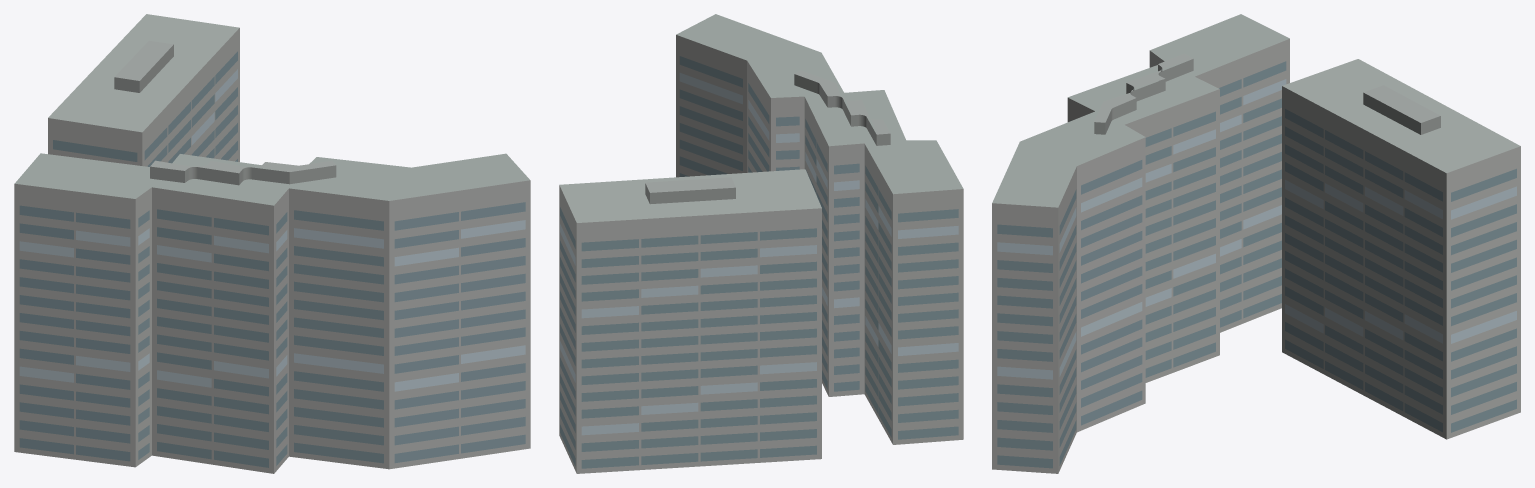
File: apt-a15275101.glb
3 views of the same model, side by side, from view 1: azimuth 30°, elevation 25°; view 2: azimuth 150°, elevation 25°; view 3: azimuth 270°, elevation 25° (orthographic). The views are drawn at different scales.
Parts seen in each view (by area): view 1: apt-a15275101; view 2: apt-a15275101; view 3: apt-a15275101.
Boxes of the visible parts, x1=… form: apt-a15275101: x1=14, y1=14, x2=530, y2=473; apt-a15275101: x1=559, y1=14, x2=963, y2=473; apt-a15275101: x1=992, y1=14, x2=1520, y2=473.
Size of the model in its own units: 71.35 by 47.81 by 82.33.
